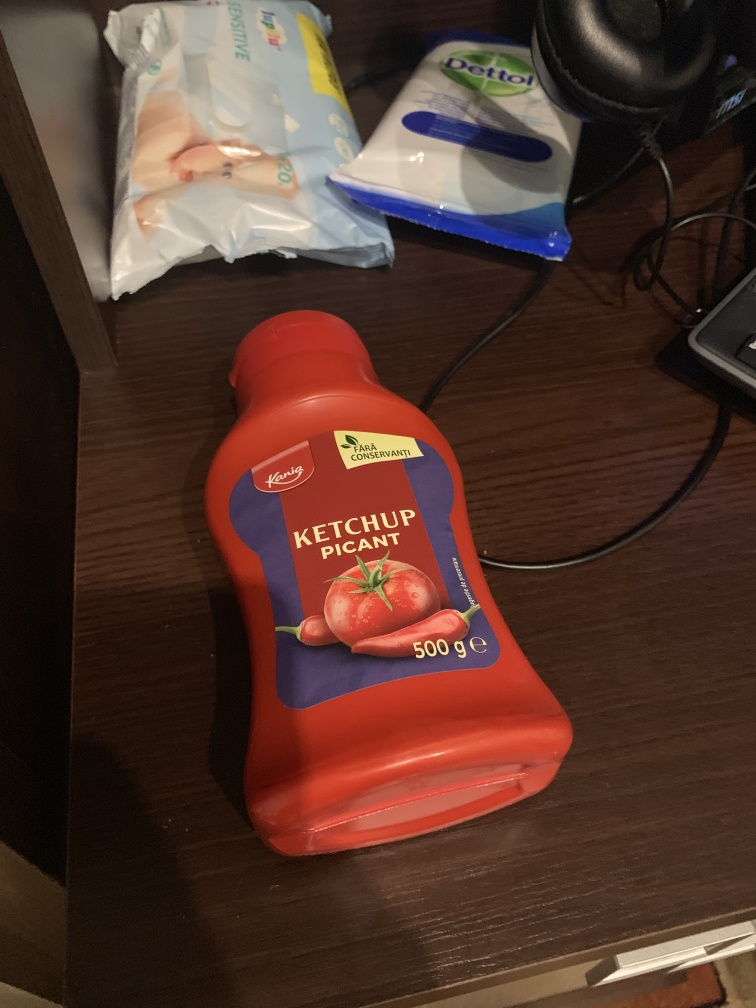ketchup: (192, 298, 582, 853)
